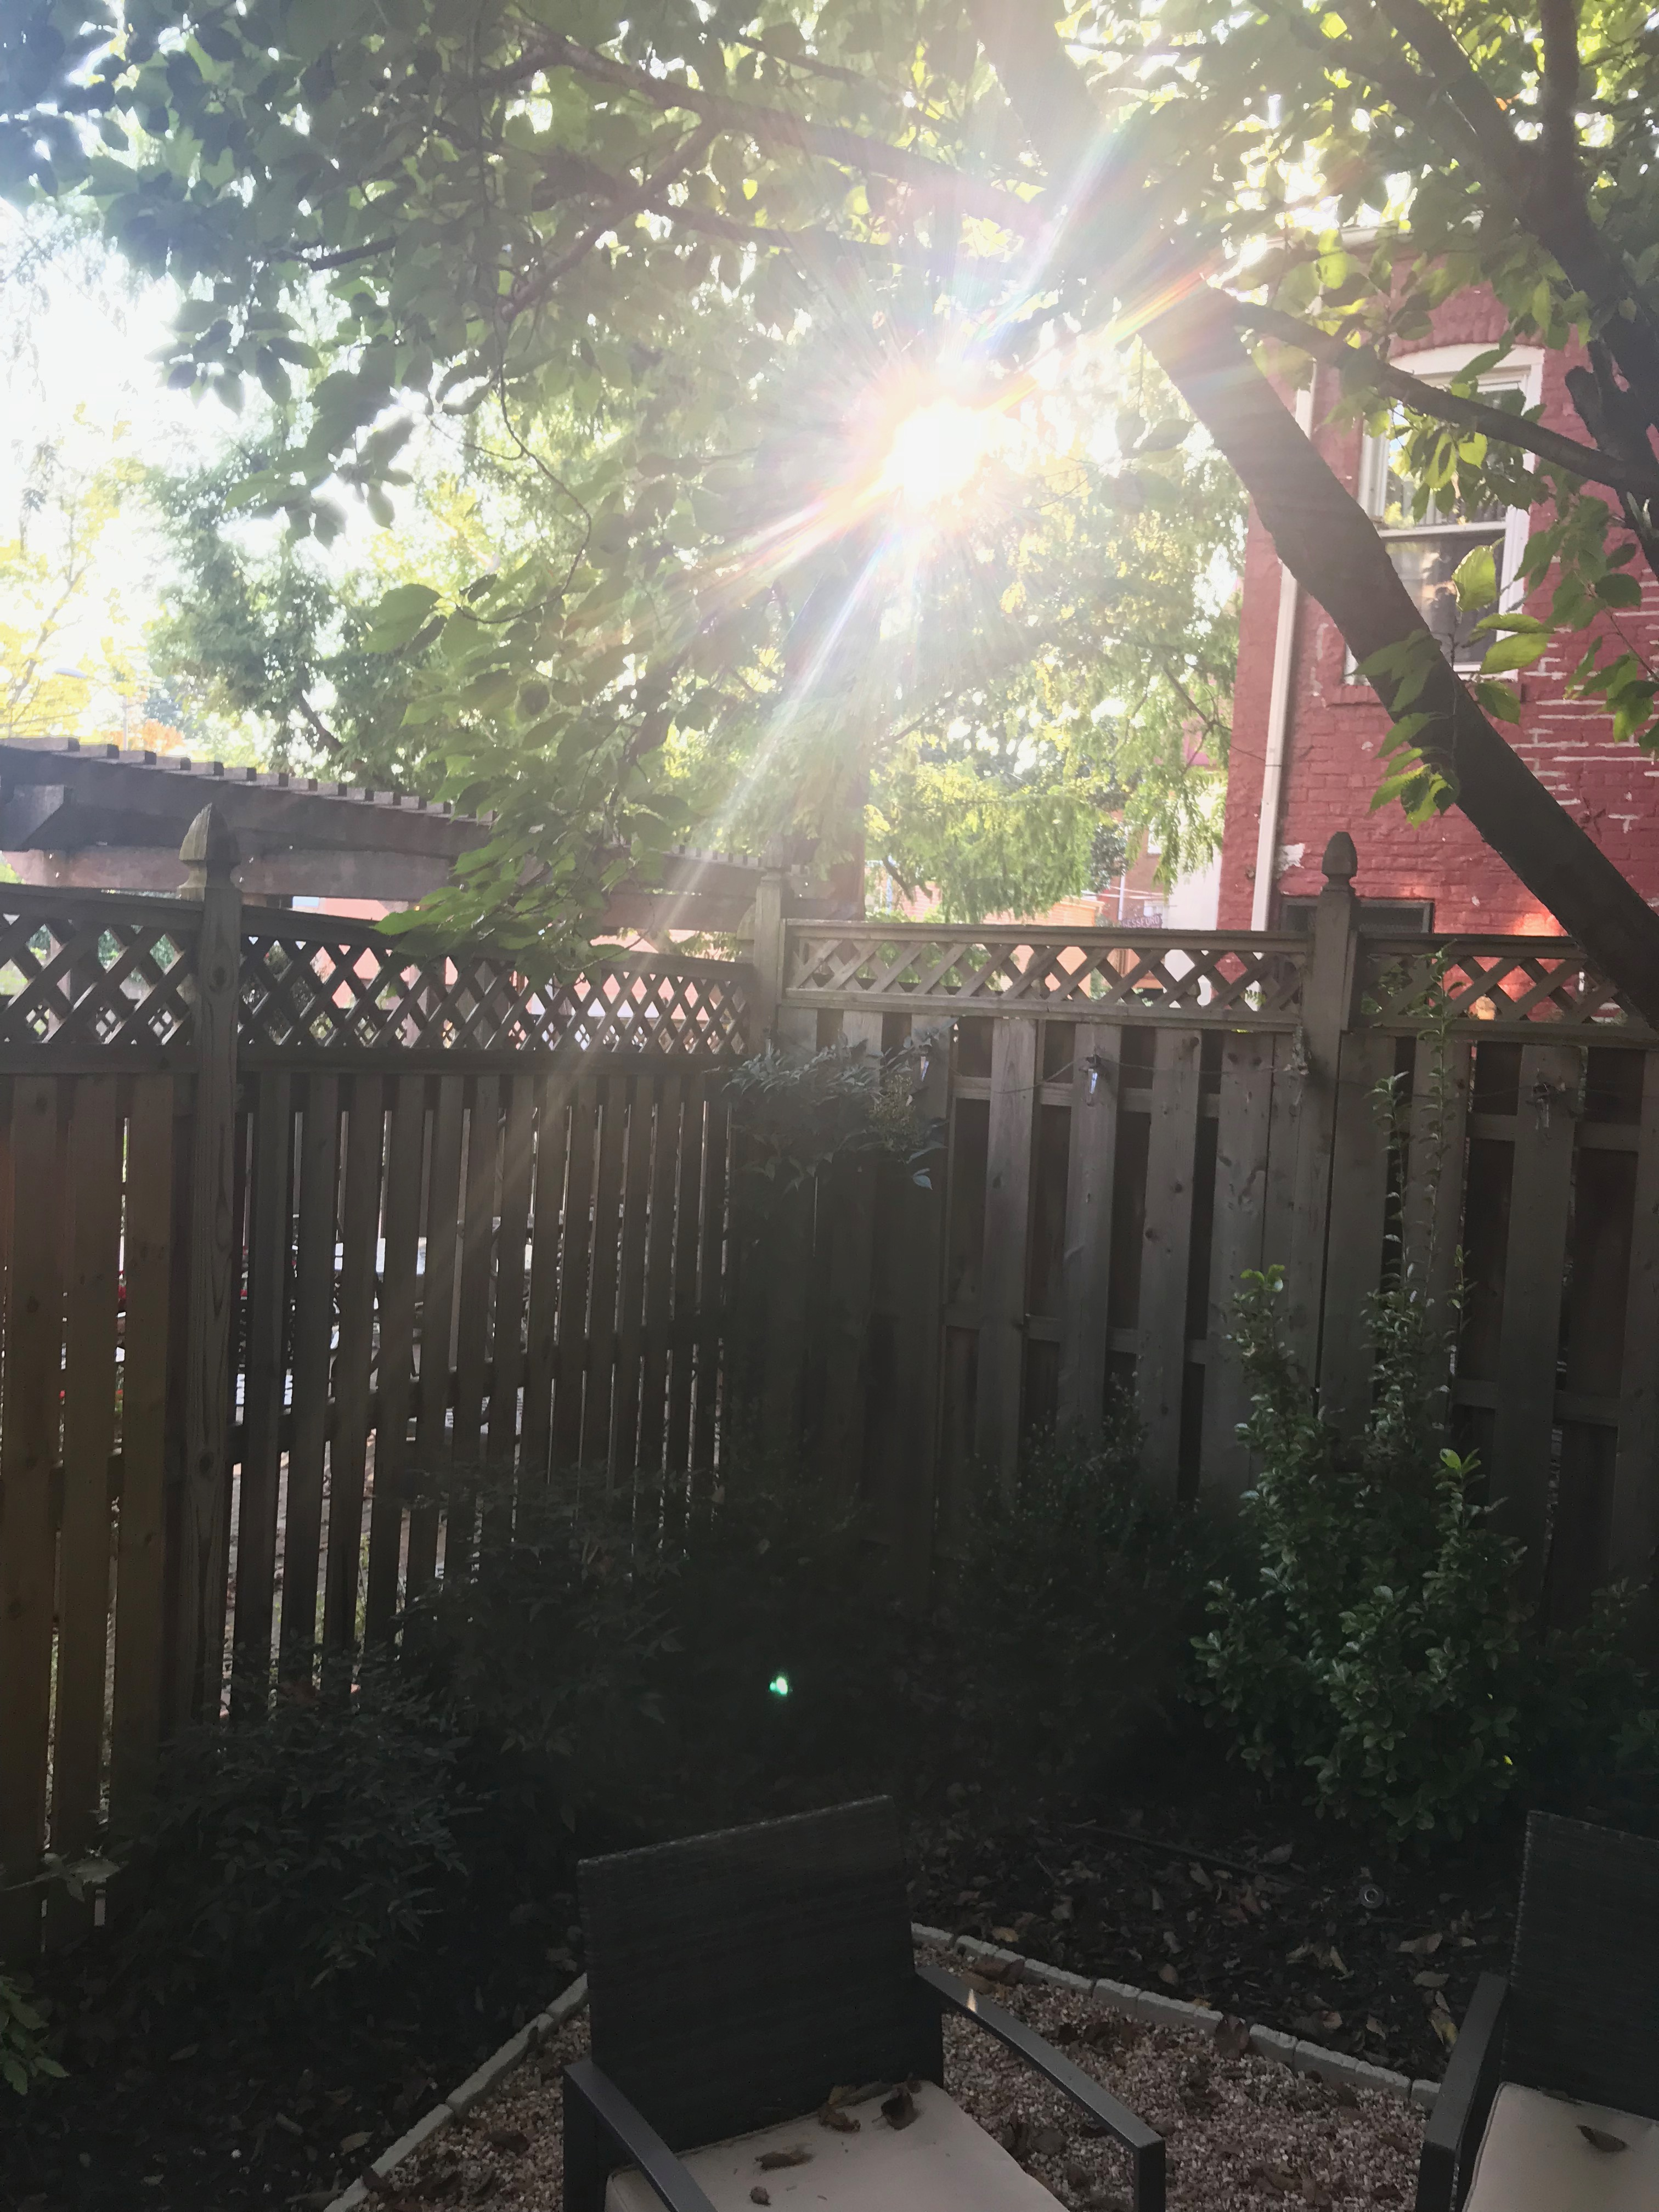flare: (767, 1670, 795, 1700)
